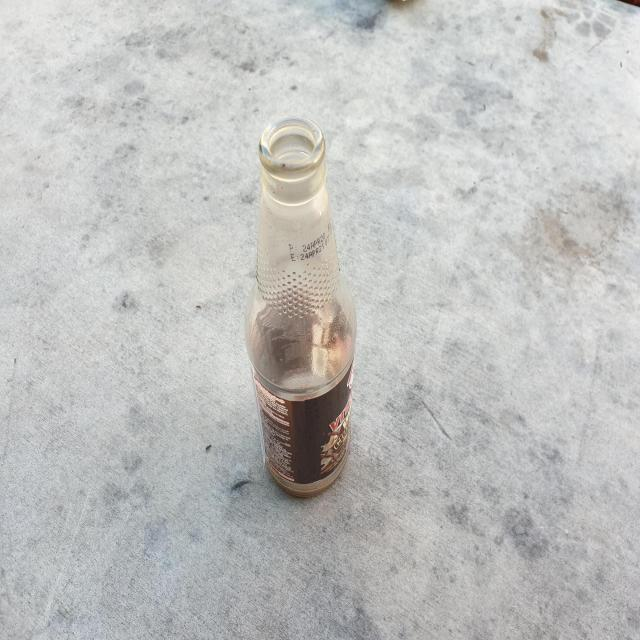glass: (245, 117, 356, 497)
